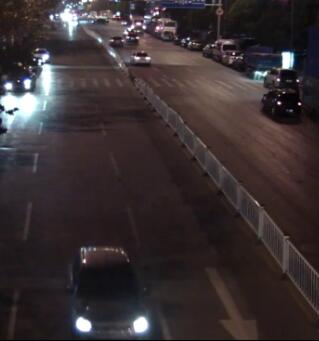bus: (149, 18, 179, 39), (139, 15, 150, 33)
car: (66, 244, 149, 335), (243, 44, 294, 79), (260, 89, 304, 123), (262, 67, 301, 92), (2, 65, 36, 93), (211, 40, 236, 63), (130, 48, 152, 65), (31, 47, 50, 63), (221, 49, 241, 64), (123, 27, 141, 43), (108, 34, 125, 48), (201, 42, 215, 56), (185, 36, 199, 50), (179, 37, 187, 49)
